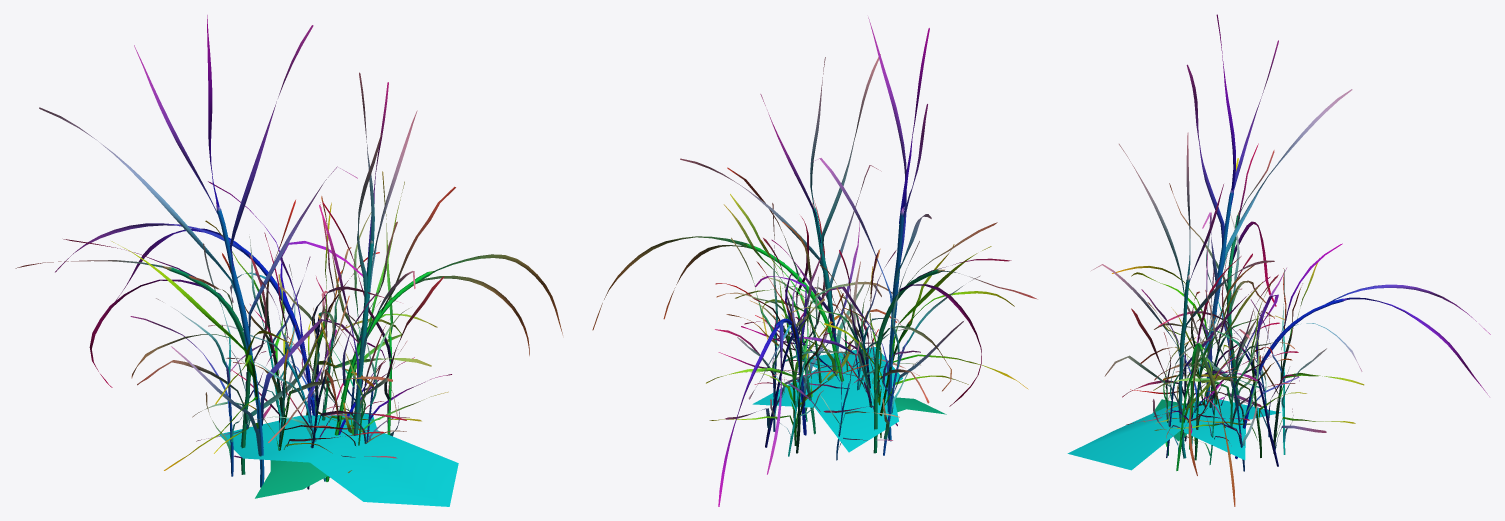
Rendered from Kikuyu_Grass_wiljearqx_High_wiljearqx_VarB_LOD0.fbx.
3 renders of one model, left to right at view 1: azimuth 30°, elevation 25°; view 2: azimuth 150°, elevation 25°; view 3: azimuth 270°, elevation 25°, orthographic. The views are drawn at different scales.
Parts seen in each view (by area): view 1: _7q4v_VarB_LOD0; view 2: _7q4v_VarB_LOD0; view 3: _7q4v_VarB_LOD0.
Part boxes in pixels (x1,y1,x2,y2): _7q4v_VarB_LOD0: (15, 15, 562, 506); _7q4v_VarB_LOD0: (592, 17, 1037, 506); _7q4v_VarB_LOD0: (1067, 14, 1490, 506).
Size of the model in its own units: 54.51 by 47.69 by 46.41.
